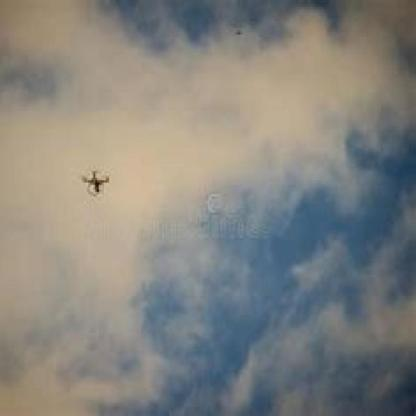drone: (79, 165, 116, 199)
